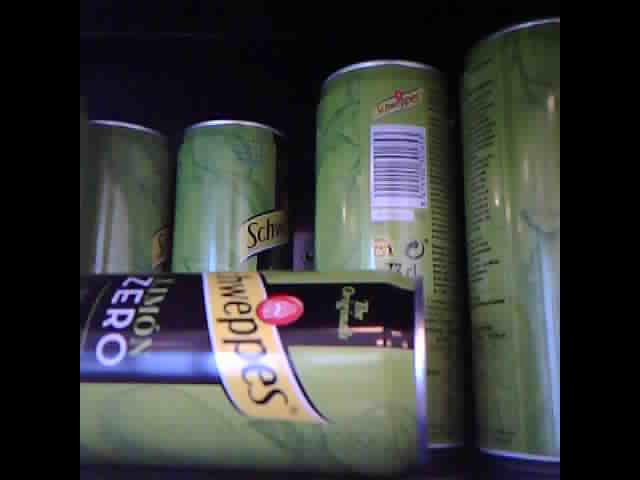schweppes: (80, 265, 432, 462), (312, 49, 453, 382), (464, 14, 560, 464), (174, 114, 294, 277), (80, 109, 170, 274)
